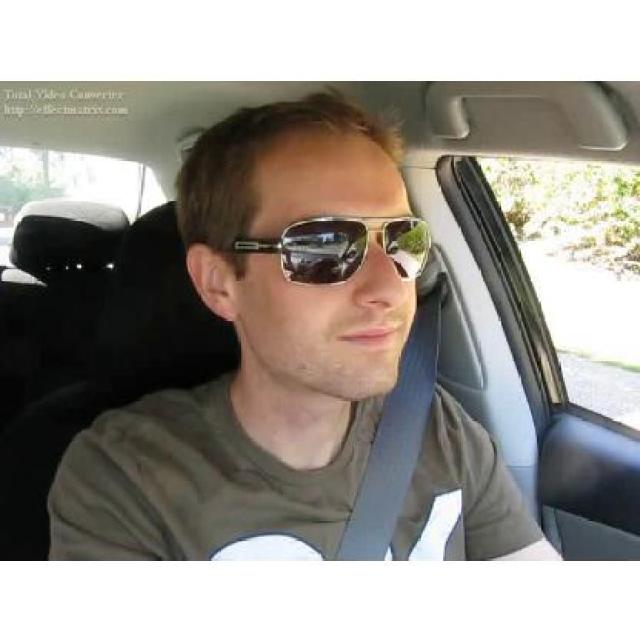attentif: (175, 94, 419, 398)
